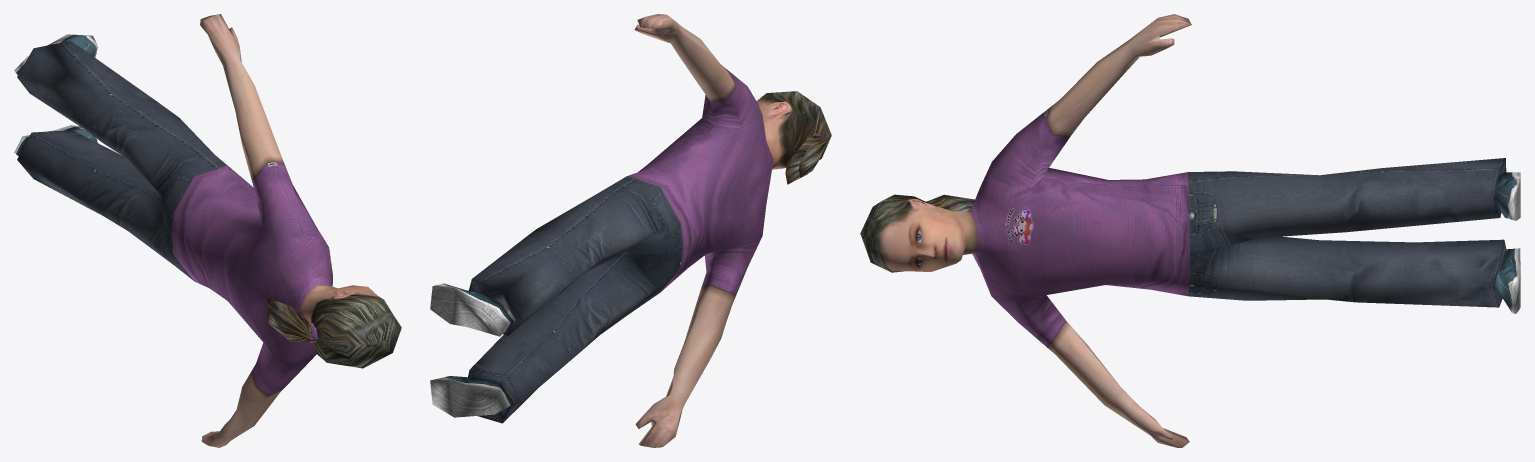
File: childFemale_idle.obj
The picture shows the model from 3 angles, left to right: view 1: azimuth 30°, elevation 25°; view 2: azimuth 150°, elevation 25°; view 3: azimuth 270°, elevation 25°; orthographic projection.
Size of the model in its own units: 0.2555 by 1.03 by 1.44.
Materials: 2 (2 with a texture image).
